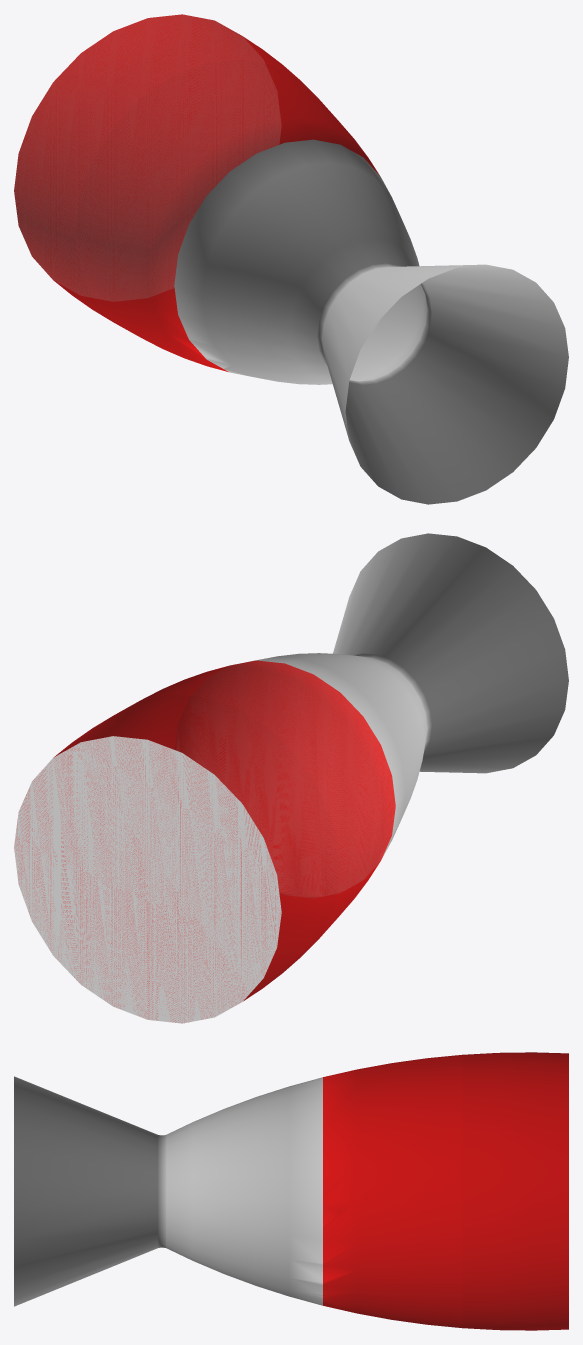
Rendered from model_align.obj.
The picture shows the model from 3 angles, top to bottom: view 1: azimuth 30°, elevation 25°; view 2: azimuth 150°, elevation 25°; view 3: azimuth 270°, elevation 25°; orthographic projection. The views are drawn at different scales.
Parts seen in each view (by area): view 1: mesh1_mesh1-geometry; view 2: mesh1_mesh1-geometry; view 3: mesh1_mesh1-geometry.
Boxes of the visible parts, bbox=[...] form: mesh1_mesh1-geometry: bbox=[14, 14, 568, 504]; mesh1_mesh1-geometry: bbox=[14, 533, 568, 1023]; mesh1_mesh1-geometry: bbox=[14, 1052, 568, 1330].
Size of the model in its own units: 0.1143 by 0.1143 by 0.2272.
